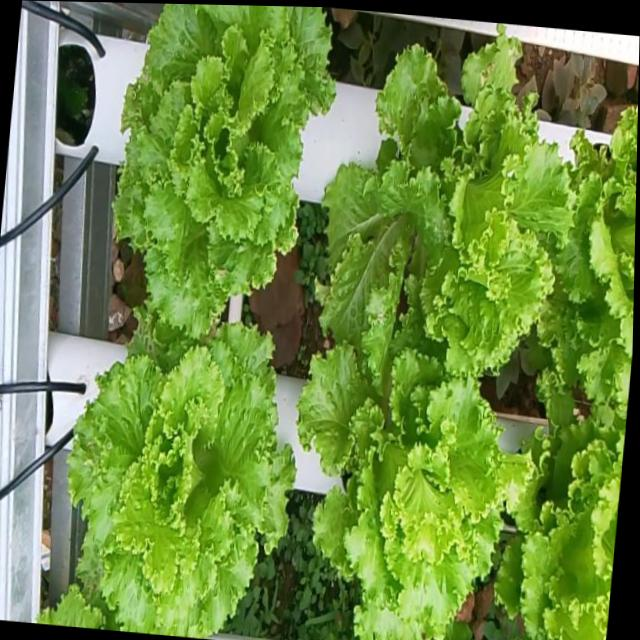Mature: (324, 27, 593, 383), (112, 4, 342, 357), (59, 317, 302, 634), (305, 341, 556, 640)
